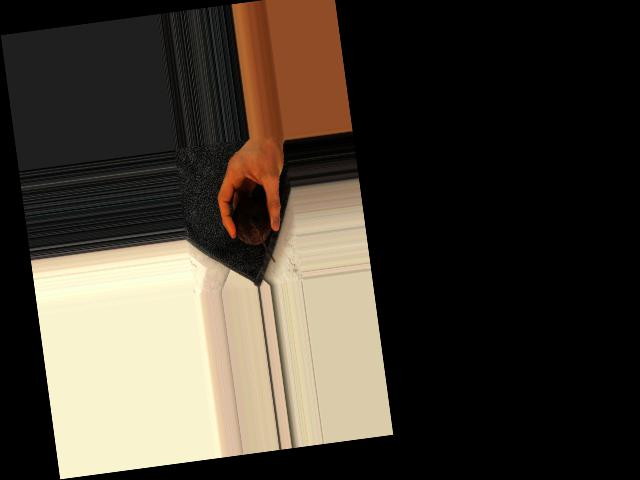beet: (230, 195, 276, 267)
